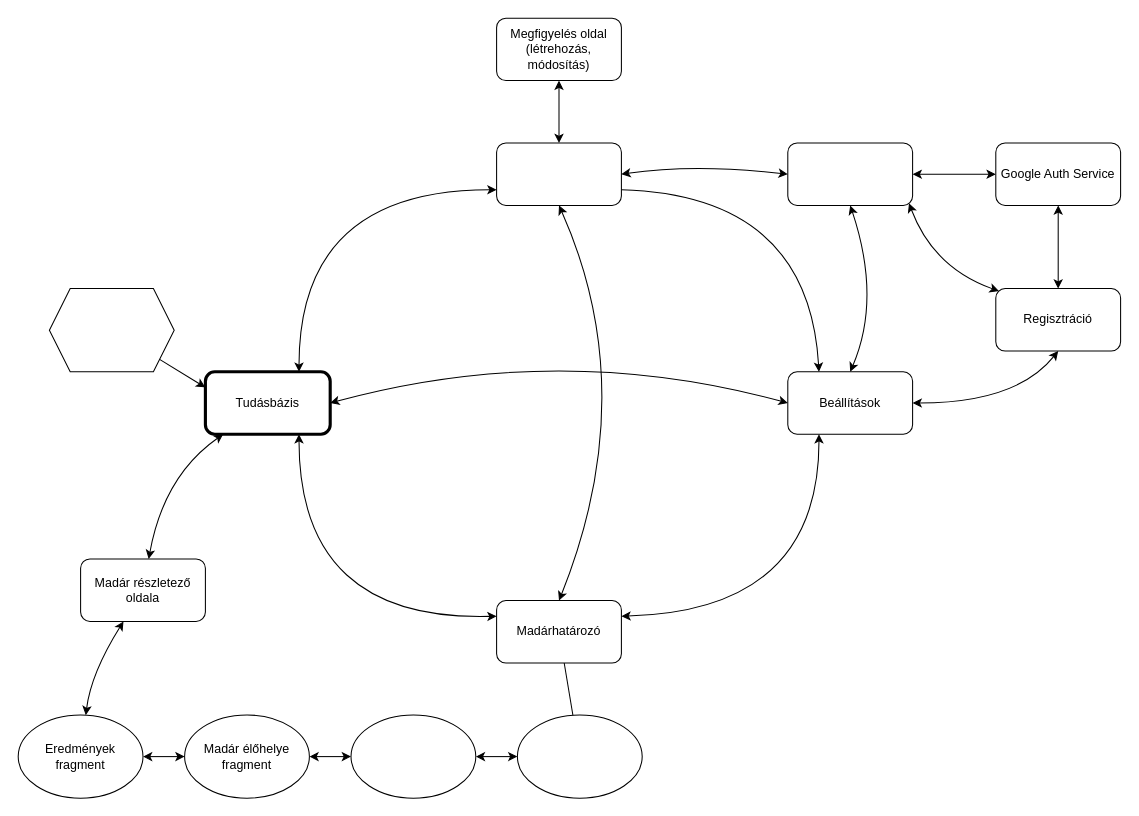
This 1139x816 diagram has some shape labels left out. Each missing label, with the centre of its shape:
Alkalmazásindítás: point (111, 330)
Bejelentkezés: point (850, 173)
Madár alakja fragment: point (413, 756)
Megfigyelések: point (558, 173)
Tollak színei fragment: point (579, 756)
